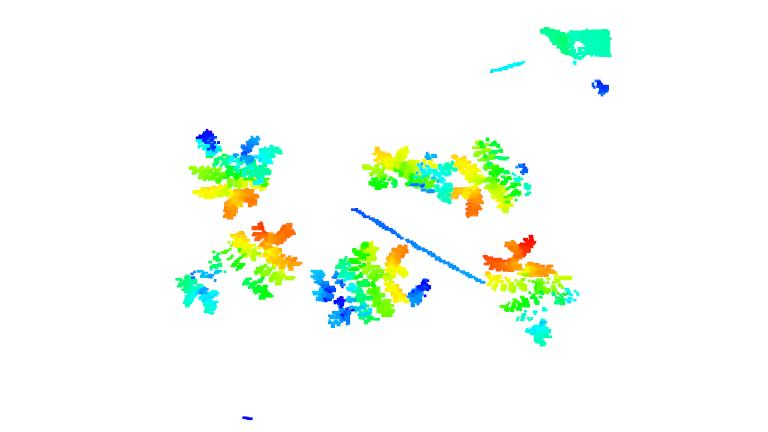chickpea: (173, 221, 297, 316), (482, 234, 583, 348), (307, 242, 414, 330), (188, 130, 281, 223), (442, 137, 535, 219), (360, 140, 439, 199), (406, 276, 435, 313)
